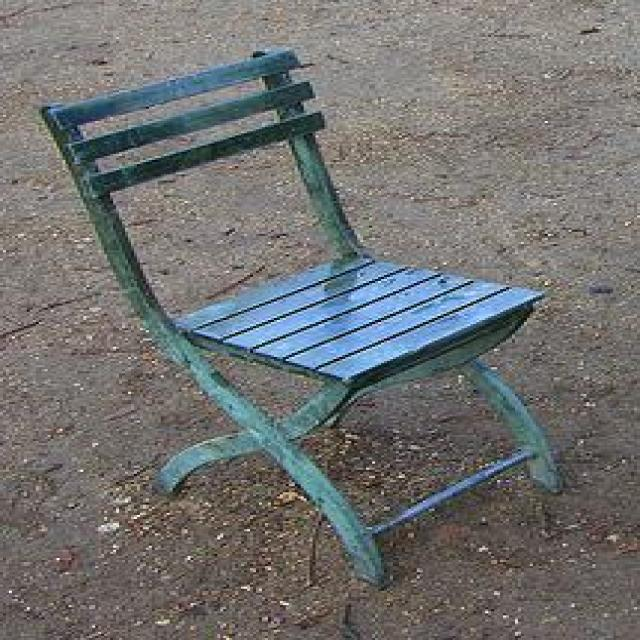chair: (36, 45, 566, 587)
